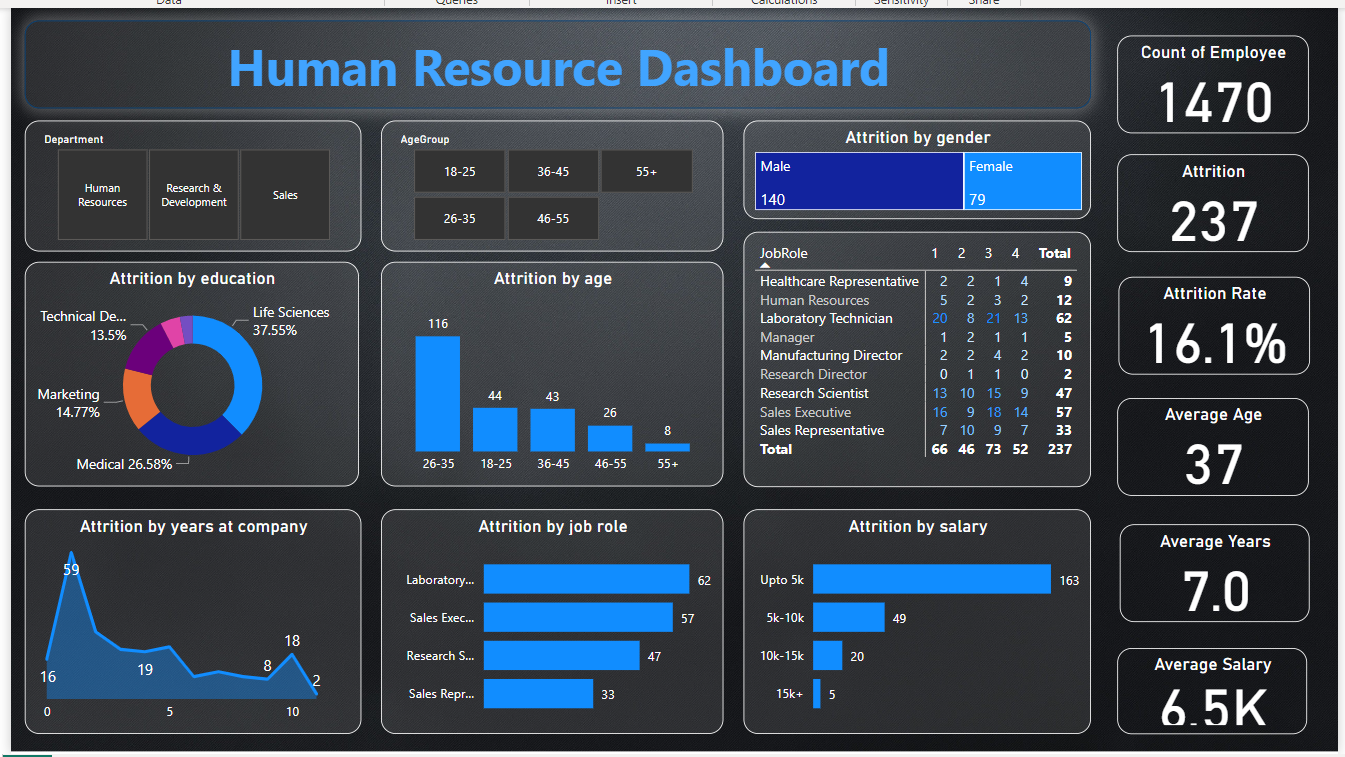

What the dashboard file says about the page in this screenshot:
{"tool":"powerbi","page":{"name":"HR Dashboard","canvas":[1280,720],"ordinal":0},"visuals":[{"type":"card","title":"Count of Employee","fields":{"Values":["Count(HR_Analytics.EmpID)"]},"box":[1067.3,26.5,184.5,94.1],"z":0},{"type":"card","title":"Attrition","fields":{"Values":["Sum(HR_Analytics.Attrition Count)"]},"box":[1067.3,141.1,184.5,94.1],"z":1000},{"type":"card","title":"Attrition Rate","fields":{"Values":["HR_Analytics.AttritionRate"]},"box":[1068.5,259.3,184.5,94.1],"z":2000},{"type":"card","title":"Average Age","fields":{"Values":["Avg(HR_Analytics.Age)"]},"box":[1067.3,376.3,184.5,94.1],"z":3000},{"type":"card","title":"Average Years","fields":{"Values":["Avg(HR_Analytics.YearsAtCompany)"]},"box":[1069.7,498.1,183.3,94.1],"z":4000},{"type":"card","title":"Average Salary","fields":{"Values":["Avg(HR_Analytics.MonthlyIncome)"]},"box":[1067.3,617.5,183.3,83.2],"z":5000},{"type":"donutChart","title":"Attrition by education","fields":{"Category":["HR_Analytics.EducationField"],"Y":["Sum(HR_Analytics.Attrition Count)"]},"box":[13.3,244.8,322,217.1],"z":6000},{"type":"columnChart","title":"Attrition by age","fields":{"Category":["HR_Analytics.AgeGroup"],"Y":["Sum(HR_Analytics.Attrition Count)"]},"box":[357,244.8,330.5,217.1],"z":7000},{"type":"pivotTable","title":"Attrition by age","fields":{"Rows":["HR_Analytics.JobRole"],"Columns":["HR_Analytics.JobSatisfaction"],"Values":["Sum(HR_Analytics.Attrition Count)"]},"box":[706.7,215.9,335.3,246],"z":8000},{"type":"clusteredBarChart","title":"Attrition by salary","fields":{"Category":["HR_Analytics.SalarySlab"],"Y":["Sum(HR_Analytics.Attrition Count)"]},"box":[706.7,483.6,335.3,217.1],"z":9000},{"type":"clusteredBarChart","title":"Attrition by job role","fields":{"Category":["HR_Analytics.JobRole"],"Y":["Sum(HR_Analytics.Attrition Count)"]},"box":[357,483.6,330.5,217.1],"z":10000},{"type":"areaChart","title":"Attrition by years at company","fields":{"Category":["HR_Analytics.YearsAtCompany"],"Y":["Sum(HR_Analytics.Attrition Count)"]},"box":[13.3,483.6,324.4,217.1],"z":11000},{"type":"treemap","title":"Attrition by gender","fields":{"Group":["HR_Analytics.Gender"],"Values":["Sum(HR_Analytics.Attrition Count)"]},"box":[706.7,108.5,335.3,95.3],"z":12000},{"type":"slicer","title":"Attrition by gender","fields":{"Values":["HR_Analytics.Department"]},"box":[13.3,108.5,324.4,126.6],"z":13000},{"type":"slicer","title":"Attrition by gender","fields":{"Values":["HR_Analytics.AgeGroup"]},"box":[357,108.5,330.5,126.6],"z":14000},{"type":"textbox","box":[13.3,12.1,1028.7,84.4],"z":15000}]}

Visuals, with their boxes in screenshot pixels (x1, y1, x2, y2):
"Count of Employee" card: detection(1140, 21, 1338, 123)
"Attrition" card: detection(1140, 145, 1338, 246)
"Attrition Rate" card: detection(1141, 272, 1339, 373)
"Average Age" card: detection(1140, 397, 1338, 498)
"Average Years" card: detection(1142, 528, 1339, 629)
"Average Salary" card: detection(1140, 656, 1337, 746)
"Attrition by education" donutChart: detection(7, 256, 353, 489)
"Attrition by age" columnChart: detection(377, 256, 732, 489)
"Attrition by age" pivotTable: detection(752, 225, 1112, 489)
"Attrition by salary" clusteredBarChart: detection(752, 513, 1112, 746)
"Attrition by job role" clusteredBarChart: detection(377, 513, 732, 746)
"Attrition by years at company" areaChart: detection(7, 513, 356, 746)
"Attrition by gender" treemap: detection(752, 110, 1112, 212)
"Attrition by gender" slicer: detection(7, 110, 356, 246)
"Attrition by gender" slicer: detection(377, 110, 732, 246)
textbox: detection(7, 6, 1112, 97)
